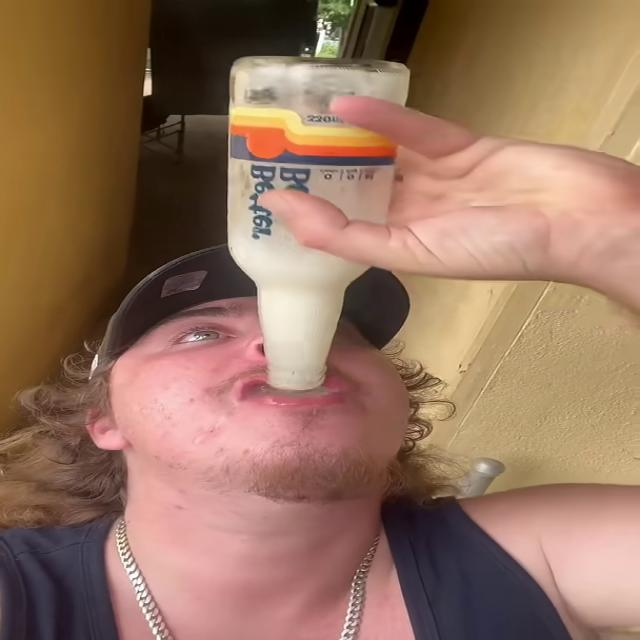Bottle: (227, 55, 408, 386)
Hand: (216, 93, 640, 290)
Mouth: (218, 365, 349, 417)
